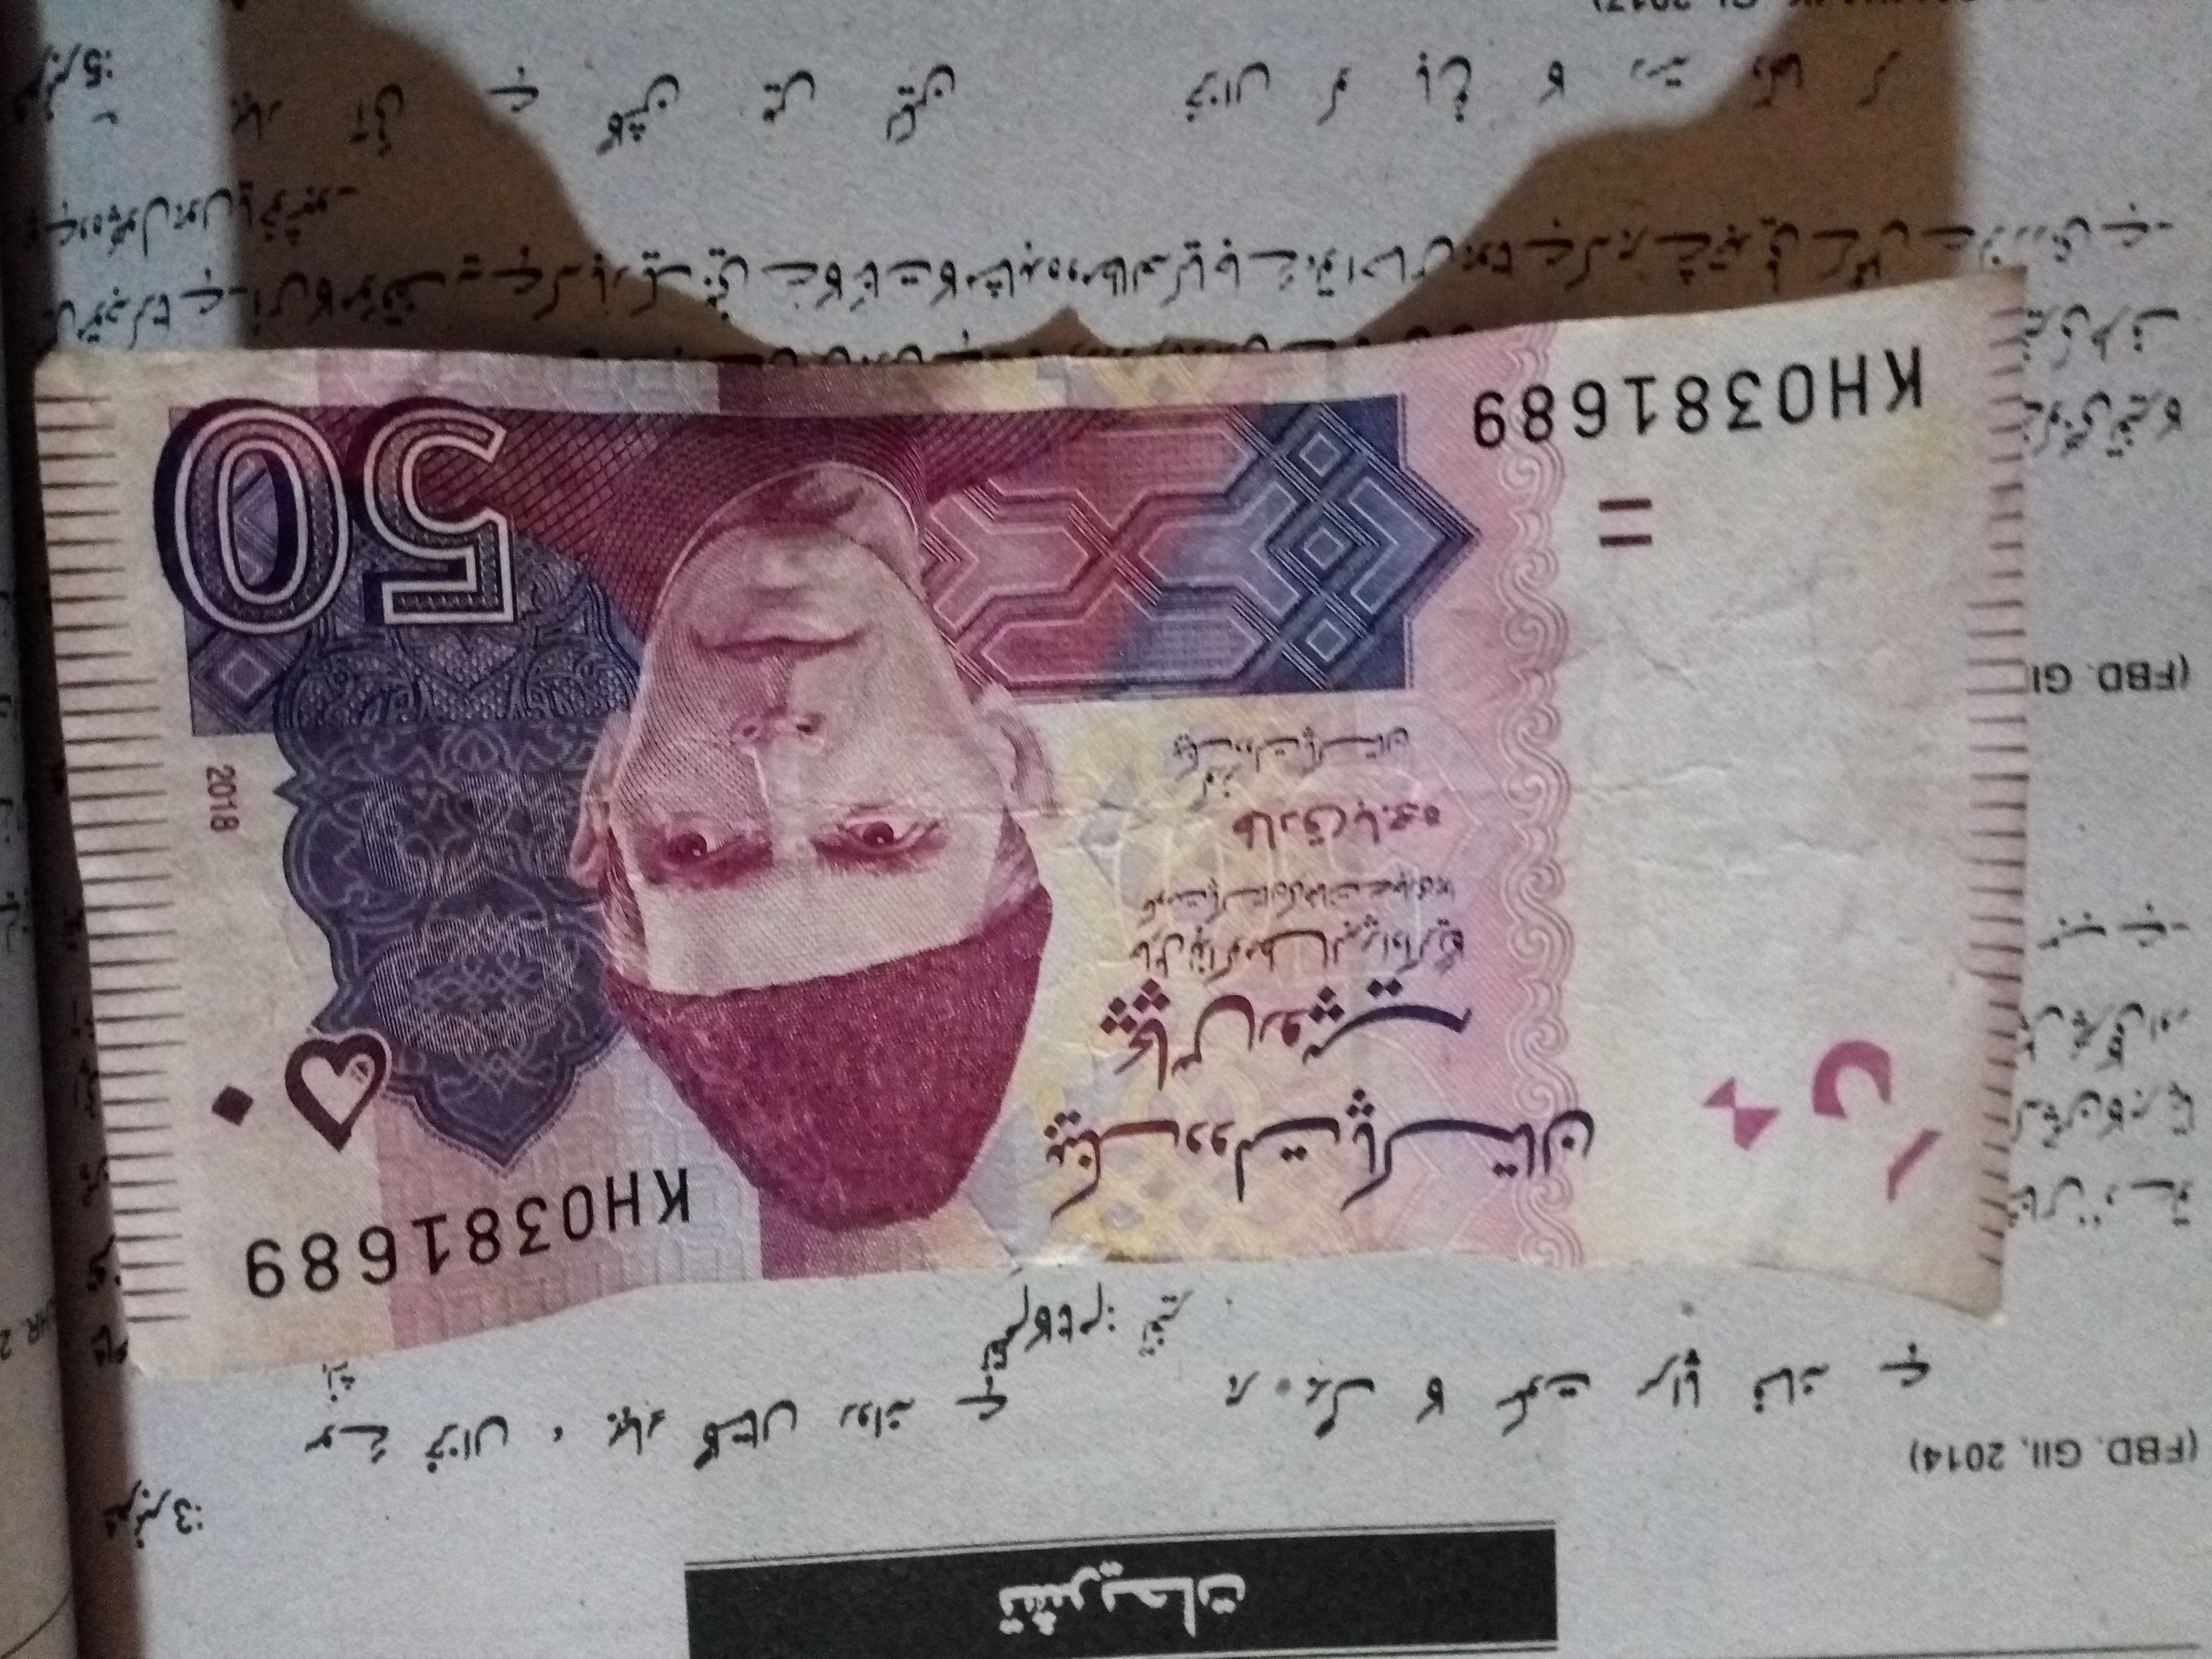50 rupee: (37, 321, 2055, 1405)
